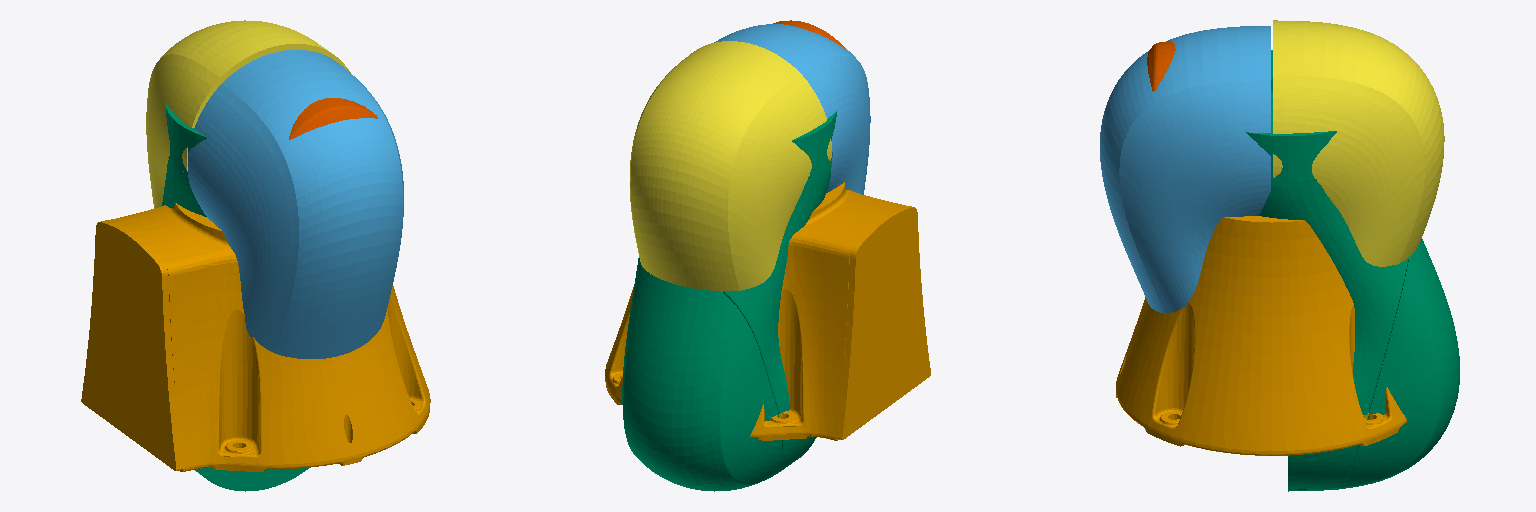
URDF robot description (kuka):
<?xml version="1.0" ?>
<!--
KUKA LBR iiwa7 arm-only kinematic chain for the planning/ stage's IK/collision
pipeline (planning/robot/util_arm.py, geometry.py). Mirrors assets/panda/panda.urdf's
convention: 7 revolute joints plus one fixed dummy tip link (kuka_link8) at the
gripper mount point. Unlike panda_joint8 (which can validly omit panda_hand_joint's
-45deg twist, since the planning-stage panda_hand/finger meshes are themselves
authored in the untwisted frame), kuka_link8 DOES carry the KUKA Y-gripper's mount
rotation: the hardware-canonical gripper_mount_joint below is a real 180deg-about-Z
physical mount, not just a mesh-alignment artifact, and assets/kuka/{visual,collision}
gripper meshes are exported in that rotated (gripper_base_link) frame. Dropping it
here left get_kuka_basis_directions()'s closing axis pointing 180deg off from the
meshes' real local +Y, and because the KUKA hand mesh's center of mass is offset
~2.7cm off-axis in X (not rotationally symmetric under 180deg about its own Z), this
showed up as a constant rendered offset between the gripper body and the grasped
part; fixed by including the same 180deg twist here that fabrica_kuka.urdf's
kuka_hand_joint already carries.

Joint origins/limits ported from the hardware-canonical description at
~/Grasp_Planning/assets/urdf/kuka_iiwa7_y_gripper/urdf/kuka_iiwa7_y_gripper.urdf
(same source as learning/assets/fabrica/urdf/fabrica_kuka.urdf). kuka_link8's
offset (0.0308m, now with the matching 180deg Z rotation) matches that URDF's
gripper_mount_joint transform exactly.

Meshes converted from the real dual-arm rig's iiwa7 description package
(~/franka_ros2_ws/src/lbr_fri_ros2_stack/lbr_description/meshes/iiwa7/{visual,collision}),
re-expressed in each link's own local frame (shifted by the same per-link offsets
that package's iiwa7_description.xacro itself uses to compensate for the meshes
being authored in assembled/candle-pose coordinates).
-->
<robot name="kuka">
  <link name="kuka_link0">
    <inertial>
      <origin rpy="0 0 0" xyz="-0.012857 0.0 0.069964"/>
      <mass value="5.0"/>
      <inertia ixx="0.1" ixy="0" ixz="0" iyy="0.1" iyz="0" izz="0.1"/>
    </inertial>
    <visual>
      <geometry>
        <mesh filename="visual/link0.obj"/>
      </geometry>
    </visual>
    <collision>
      <geometry>
        <mesh filename="collision/link0.obj"/>
      </geometry>
    </collision>
  </link>
  <joint name="kuka_joint1" type="revolute">
    <origin rpy="0 0 0" xyz="0 0 0.1475"/>
    <parent link="kuka_link0"/>
    <child link="kuka_link1"/>
    <axis xyz="0 0 1"/>
    <limit effort="176" lower="-2.97" upper="2.97" velocity="1.71"/>
  </joint>
  <link name="kuka_link1">
    <inertial>
      <origin rpy="0 0 0" xyz="0.0 -0.034819 0.123299"/>
      <mass value="4.0"/>
      <inertia ixx="0.1" ixy="0" ixz="0" iyy="0.1" iyz="0" izz="0.1"/>
    </inertial>
    <visual>
      <geometry>
        <mesh filename="visual/link1.obj"/>
      </geometry>
    </visual>
    <collision>
      <geometry>
        <mesh filename="collision/link1.obj"/>
      </geometry>
    </collision>
  </link>
  <joint name="kuka_joint2" type="revolute">
    <origin rpy="0 0 0" xyz="0 -0.0105 0.1925"/>
    <parent link="kuka_link1"/>
    <child link="kuka_link2"/>
    <axis xyz="0 1 0"/>
    <limit effort="176" lower="-2.09" upper="2.09" velocity="1.71"/>
  </joint>
  <link name="kuka_link2">
    <inertial>
      <origin rpy="0 0 0" xyz="0.0 0.039793 0.086944"/>
      <mass value="4.0"/>
      <inertia ixx="0.1" ixy="0" ixz="0" iyy="0.1" iyz="0" izz="0.1"/>
    </inertial>
    <visual>
      <geometry>
        <mesh filename="visual/link2.obj"/>
      </geometry>
    </visual>
    <collision>
      <geometry>
        <mesh filename="collision/link2.obj"/>
      </geometry>
    </collision>
  </link>
  <joint name="kuka_joint3" type="revolute">
    <origin rpy="0 0 0" xyz="0 0.0105 0.2075"/>
    <parent link="kuka_link2"/>
    <child link="kuka_link3"/>
    <axis xyz="0 0 1"/>
    <limit effort="110" lower="-2.97" upper="2.97" velocity="1.75"/>
  </joint>
  <link name="kuka_link3">
    <inertial>
      <origin rpy="0 0 0" xyz="0.0 0.034819 0.123299"/>
      <mass value="3.0"/>
      <inertia ixx="0.1" ixy="0" ixz="0" iyy="0.1" iyz="0" izz="0.1"/>
    </inertial>
    <visual>
      <geometry>
        <mesh filename="visual/link3.obj"/>
      </geometry>
    </visual>
    <collision>
      <geometry>
        <mesh filename="collision/link3.obj"/>
      </geometry>
    </collision>
  </link>
  <joint name="kuka_joint4" type="revolute">
    <origin rpy="0 0 0" xyz="0 0.0105 0.1925"/>
    <parent link="kuka_link3"/>
    <child link="kuka_link4"/>
    <axis xyz="0 -1 0"/>
    <limit effort="110" lower="-2.09" upper="2.09" velocity="2.27"/>
  </joint>
  <link name="kuka_link4">
    <inertial>
      <origin rpy="0 0 0" xyz="0.0 -0.039793 0.086944"/>
      <mass value="3.0"/>
      <inertia ixx="0.1" ixy="0" ixz="0" iyy="0.1" iyz="0" izz="0.1"/>
    </inertial>
    <visual>
      <geometry>
        <mesh filename="visual/link4.obj"/>
      </geometry>
    </visual>
    <collision>
      <geometry>
        <mesh filename="collision/link4.obj"/>
      </geometry>
    </collision>
  </link>
  <joint name="kuka_joint5" type="revolute">
    <origin rpy="0 0 0" xyz="0 -0.0105 0.2075"/>
    <parent link="kuka_link4"/>
    <child link="kuka_link5"/>
    <axis xyz="0 0 1"/>
    <limit effort="110" lower="-2.97" upper="2.97" velocity="2.44"/>
  </joint>
  <link name="kuka_link5">
    <inertial>
      <origin rpy="0 0 0" xyz="0.0 -0.029824 0.076267"/>
      <mass value="2.0"/>
      <inertia ixx="0.1" ixy="0" ixz="0" iyy="0.1" iyz="0" izz="0.1"/>
    </inertial>
    <visual>
      <geometry>
        <mesh filename="visual/link5.obj"/>
      </geometry>
    </visual>
    <collision>
      <geometry>
        <mesh filename="collision/link5.obj"/>
      </geometry>
    </collision>
  </link>
  <joint name="kuka_joint6" type="revolute">
    <origin rpy="0 0 0" xyz="0 -0.0707 0.1925"/>
    <parent link="kuka_link5"/>
    <child link="kuka_link6"/>
    <axis xyz="0 1 0"/>
    <limit effort="40" lower="-2.09" upper="2.09" velocity="3.14"/>
  </joint>
  <link name="kuka_link6">
    <inertial>
      <origin rpy="0 0 0" xyz="0.0 0.07102 0.00495"/>
      <mass value="1.5"/>
      <inertia ixx="0.1" ixy="0" ixz="0" iyy="0.1" iyz="0" izz="0.1"/>
    </inertial>
    <visual>
      <geometry>
        <mesh filename="visual/link6.obj"/>
      </geometry>
    </visual>
    <collision>
      <geometry>
        <mesh filename="collision/link6.obj"/>
      </geometry>
    </collision>
  </link>
  <joint name="kuka_joint7" type="revolute">
    <origin rpy="0 0 0" xyz="0 0.0707 0.091"/>
    <parent link="kuka_link6"/>
    <child link="kuka_link7"/>
    <axis xyz="0 0 1"/>
    <limit effort="40" lower="-3.05" upper="3.05" velocity="3.14"/>
  </joint>
  <link name="kuka_link7">
    <inertial>
      <origin rpy="0 0 0" xyz="0.0 0.0 0.013782"/>
      <mass value="0.5"/>
      <inertia ixx="0.1" ixy="0" ixz="0" iyy="0.1" iyz="0" izz="0.1"/>
    </inertial>
    <visual>
      <geometry>
        <mesh filename="visual/link7.obj"/>
      </geometry>
    </visual>
    <collision>
      <geometry>
        <mesh filename="collision/link7.obj"/>
      </geometry>
    </collision>
  </link>
  <link name="kuka_link8">
    <inertial>
      <origin rpy="0 0 0" xyz="0 0 0"/>
      <mass value="0.0"/>
      <inertia ixx="0.1" ixy="0" ixz="0" iyy="0.1" iyz="0" izz="0.1"/>
    </inertial>
  </link>
  <joint name="kuka_joint8" type="fixed">
    <origin rpy="0 0 3.14159265" xyz="0 0 0.0308"/>
    <parent link="kuka_link7"/>
    <child link="kuka_link8"/>
    <axis xyz="0 0 0"/>
  </joint>
</robot>

--- Facts derived from the render (not from the file) ---
Views: 3 orthographic renders of the robot side by side, from view 1: azimuth 30°, elevation 25°; view 2: azimuth 150°, elevation 25°; view 3: azimuth 270°, elevation 25°.
Robot: kuka — 9 links, 8 joints (7 revolute, 1 fixed); root link kuka_link0; default pose: all joints at 0.
Visible links, largest first — view 1: kuka_link0, kuka_link1, kuka_link3, kuka_link2, kuka_link5; view 2: kuka_link3, kuka_link2, kuka_link0, kuka_link1; view 3: kuka_link0, kuka_link1, kuka_link3, kuka_link2, kuka_link5.
Boxes of the visible links, x1=… form: kuka_link0: x1=81, y1=203, x2=430, y2=471; kuka_link1: x1=188, y1=50, x2=403, y2=358; kuka_link3: x1=146, y1=20, x2=350, y2=208; kuka_link2: x1=162, y1=104, x2=308, y2=491; kuka_link5: x1=289, y1=98, x2=377, y2=139; kuka_link3: x1=630, y1=41, x2=831, y2=291; kuka_link2: x1=622, y1=111, x2=836, y2=491; kuka_link0: x1=605, y1=182, x2=930, y2=440; kuka_link1: x1=714, y1=24, x2=870, y2=194; kuka_link0: x1=1116, y1=216, x2=1406, y2=455; kuka_link1: x1=1100, y1=26, x2=1270, y2=313; kuka_link3: x1=1273, y1=20, x2=1444, y2=266; kuka_link2: x1=1246, y1=50, x2=1459, y2=491; kuka_link5: x1=1147, y1=41, x2=1175, y2=91.
Bounding box of the posed robot: 21.7 × 23.96 × 33.06 m (x, y, z).
Meshes: 8 distinct files referenced, 8 mesh visuals loaded (8 OBJ).
